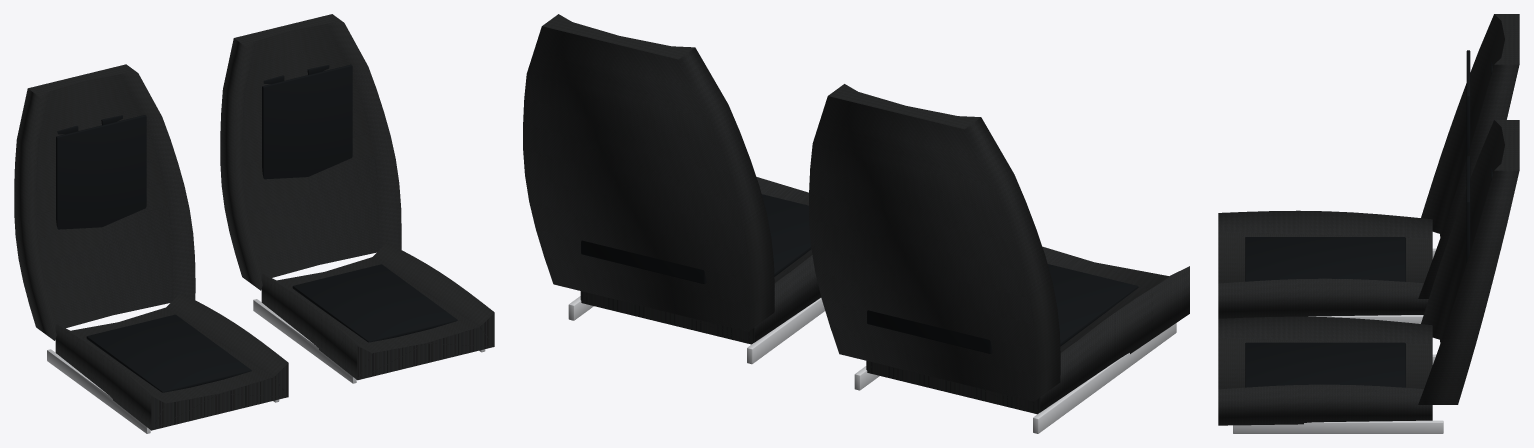
File: BS01_carbon_buckets.glb
3 renders of one model, left to right at view 1: azimuth 30°, elevation 25°; view 2: azimuth 150°, elevation 25°; view 3: azimuth 270°, elevation 25°, orthographic. The views are drawn at different scales.
Parts seen in each view (by area): view 1: MOD_ND_BS01_R_back, MOD_ND_BS01_L_back, MOD_ND_BS01_R_cushion, MOD_ND_BS01_L_cushion, MOD_ND_BS01_pad_back_R, MOD_ND_BS01_pad_back_L, MOD_ND_BS01_pad_seat_R, MOD_ND_BS01_pad_seat_L, MOD_ND_BS01_rail_La, MOD_ND_BS01_rail_Ra; view 2: MOD_ND_BS01_R_back, MOD_ND_BS01_L_back, MOD_ND_BS01_R_cushion, MOD_ND_BS01_L_cushion, MOD_ND_BS01_pad_seat_R, MOD_ND_BS01_pad_seat_L, MOD_ND_BS01_rail_Ra, MOD_ND_BS01_pad_back_R, MOD_ND_BS01_pad_back_L, MOD_ND_BS01_rail_La; view 3: MOD_ND_BS01_L_cushion, MOD_ND_BS01_R_cushion, MOD_ND_BS01_L_back, MOD_ND_BS01_R_back, MOD_ND_BS01_pad_seat_L, MOD_ND_BS01_pad_seat_R, MOD_ND_BS01_rail_Lb, MOD_ND_BS01_rail_Rb, MOD_ND_BS01_pad_back_R, MOD_ND_BS01_pad_back_L.
Part boxes in pixels (box(x1,y1,x2,y2)): MOD_ND_BS01_R_back: box(14, 64, 195, 340); MOD_ND_BS01_L_back: box(220, 14, 401, 290); MOD_ND_BS01_R_cushion: box(55, 293, 288, 430); MOD_ND_BS01_L_cushion: box(261, 242, 494, 380); MOD_ND_BS01_pad_back_R: box(56, 115, 146, 229); MOD_ND_BS01_pad_back_L: box(262, 64, 352, 179); MOD_ND_BS01_pad_seat_R: box(86, 314, 251, 392); MOD_ND_BS01_pad_seat_L: box(292, 264, 457, 342); MOD_ND_BS01_rail_La: box(253, 299, 356, 383); MOD_ND_BS01_rail_Ra: box(47, 349, 150, 433); MOD_ND_BS01_R_back: box(809, 84, 1060, 401); MOD_ND_BS01_L_back: box(523, 14, 774, 331); MOD_ND_BS01_R_cushion: box(866, 246, 1189, 414); MOD_ND_BS01_L_cushion: box(580, 177, 821, 344); MOD_ND_BS01_pad_seat_R: box(1047, 264, 1138, 346); MOD_ND_BS01_pad_seat_L: box(761, 194, 811, 276); MOD_ND_BS01_rail_Ra: box(1033, 323, 1176, 433); MOD_ND_BS01_pad_back_R: box(867, 310, 992, 353); MOD_ND_BS01_pad_back_L: box(581, 240, 706, 283); MOD_ND_BS01_rail_La: box(747, 298, 825, 364); MOD_ND_BS01_L_cushion: box(1218, 316, 1432, 425); MOD_ND_BS01_R_cushion: box(1218, 210, 1432, 318); MOD_ND_BS01_L_back: box(1418, 120, 1519, 404); MOD_ND_BS01_R_back: box(1418, 14, 1519, 298); MOD_ND_BS01_pad_seat_L: box(1245, 342, 1405, 387); MOD_ND_BS01_pad_seat_R: box(1245, 237, 1405, 281); MOD_ND_BS01_rail_Lb: box(1233, 420, 1443, 433); MOD_ND_BS01_rail_Rb: box(1308, 315, 1423, 323); MOD_ND_BS01_pad_back_R: box(1466, 50, 1470, 156); MOD_ND_BS01_pad_back_L: box(1466, 156, 1470, 262).
Size of the model in its own units: 1.22 by 0.775 by 0.8295.
Materials: 3 (1 with a texture image).
